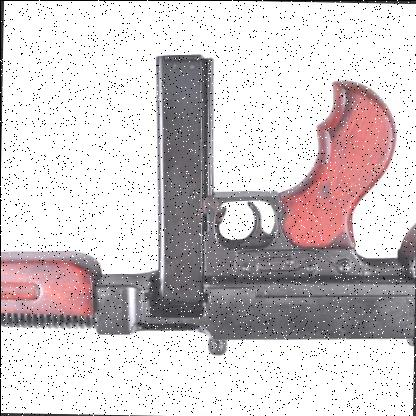rifle: (1, 48, 402, 371)
